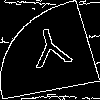Y: (25, 25, 77, 78)
